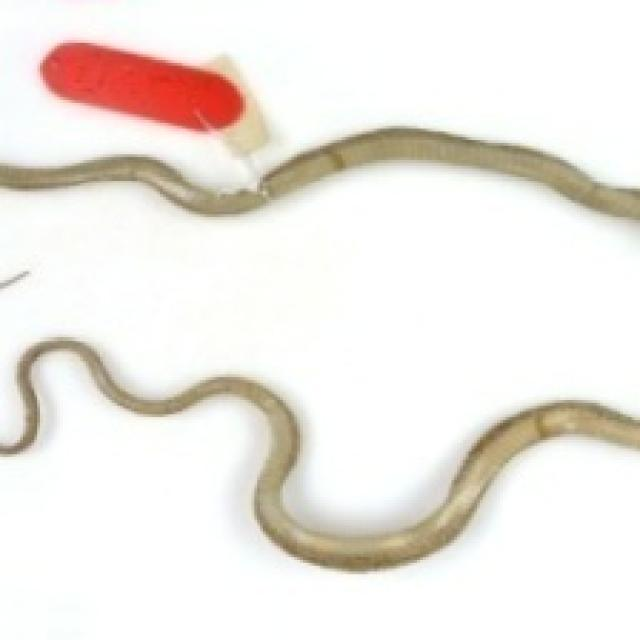mullers wolf snake: (0, 163, 637, 566), (0, 357, 637, 637), (20, 80, 243, 174)
